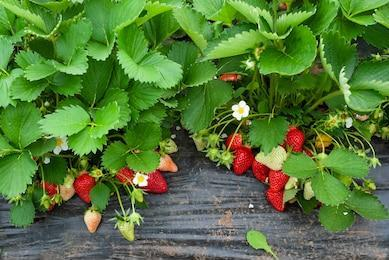Fresa: (70, 168, 101, 206), (137, 167, 170, 196), (232, 143, 256, 178), (281, 124, 308, 153), (265, 186, 288, 214), (268, 167, 289, 191)
